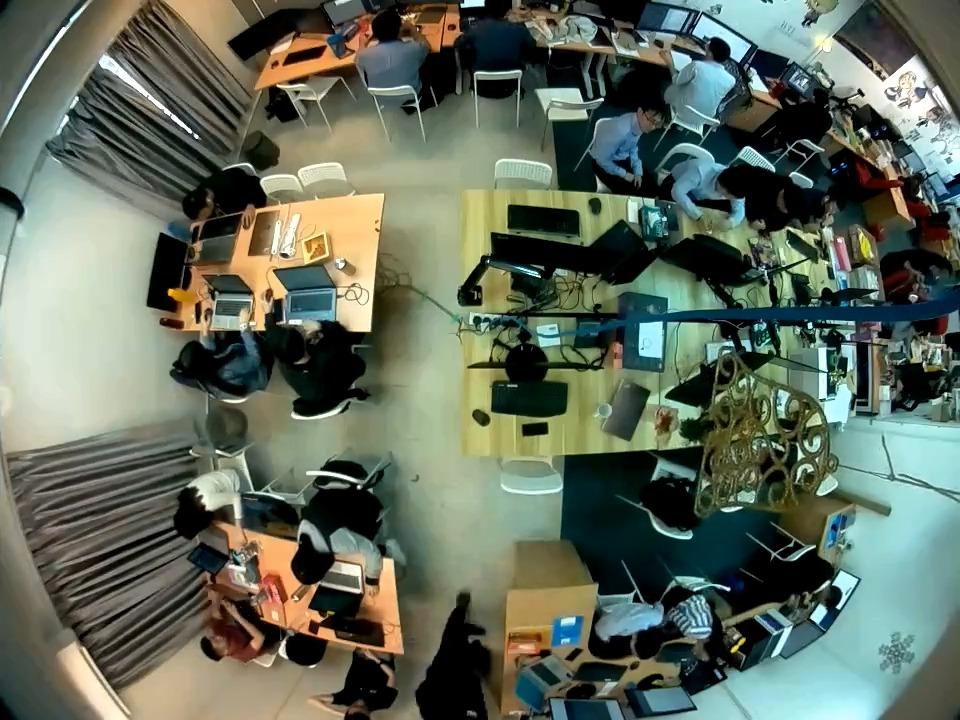name-tag: (466, 709, 478, 717)
